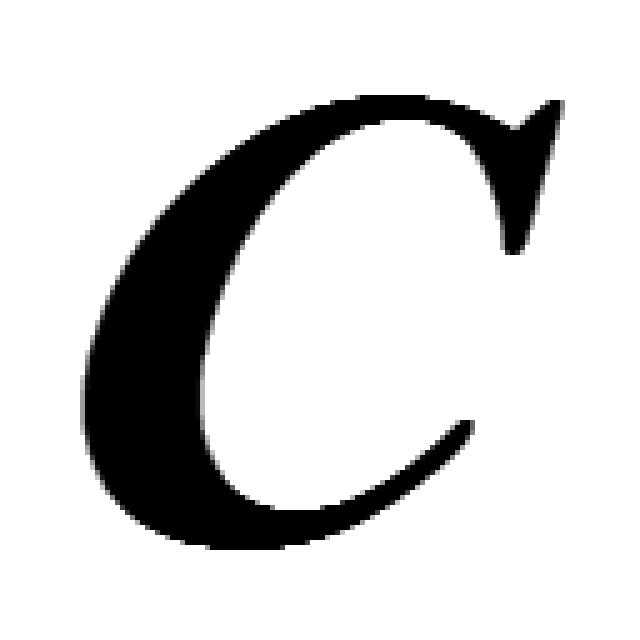C: (80, 95, 565, 555)
